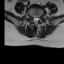CCS_normal: (34, 16, 36, 23)
LFS_normal: (39, 15, 41, 21)
LLS_normal: (36, 16, 38, 22)
RFS_severe_stenosis: (31, 15, 33, 20)
RLS_normal: (33, 16, 35, 22)
